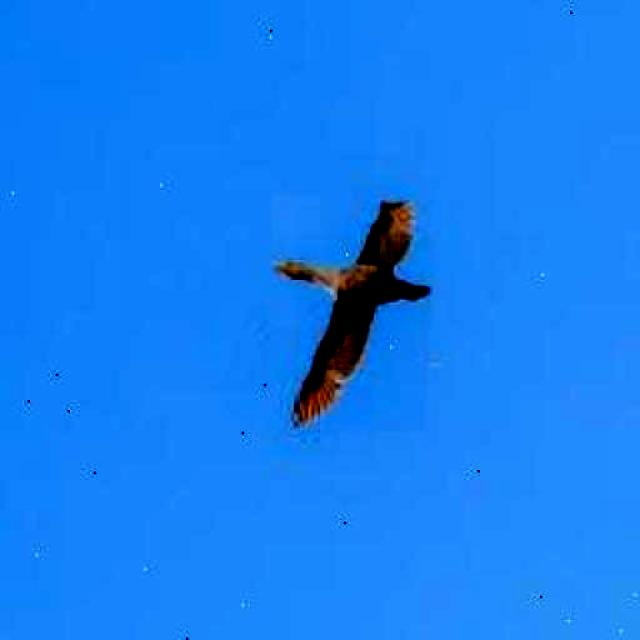airplane: (264, 194, 434, 432)
